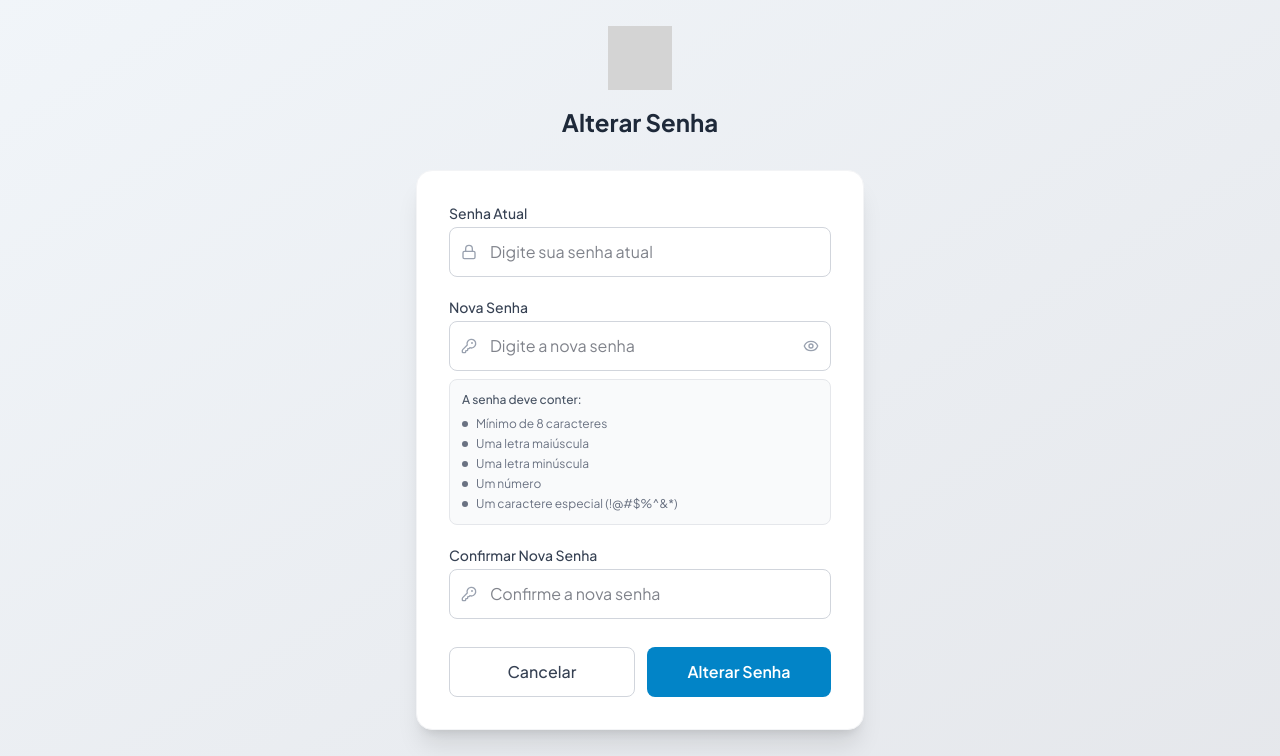
Scenario: ChangePasswordPage › deve exibir erro quando senha nao tem letra maiuscula
In the password field labelled "Senha Atual": point(640, 252) [449,227,831,277], type "atual"
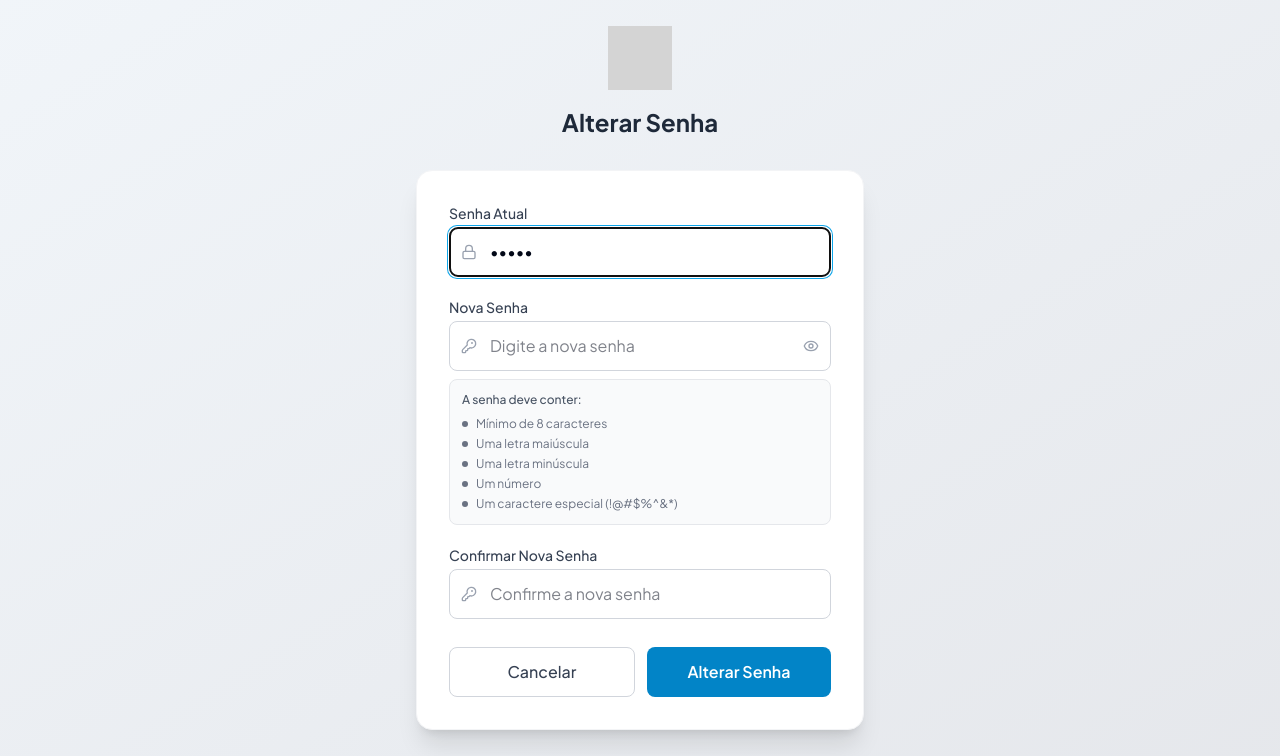
In the password field labelled "Nova Senha": point(640, 346) [449,321,831,371], type "abcdefg1@"
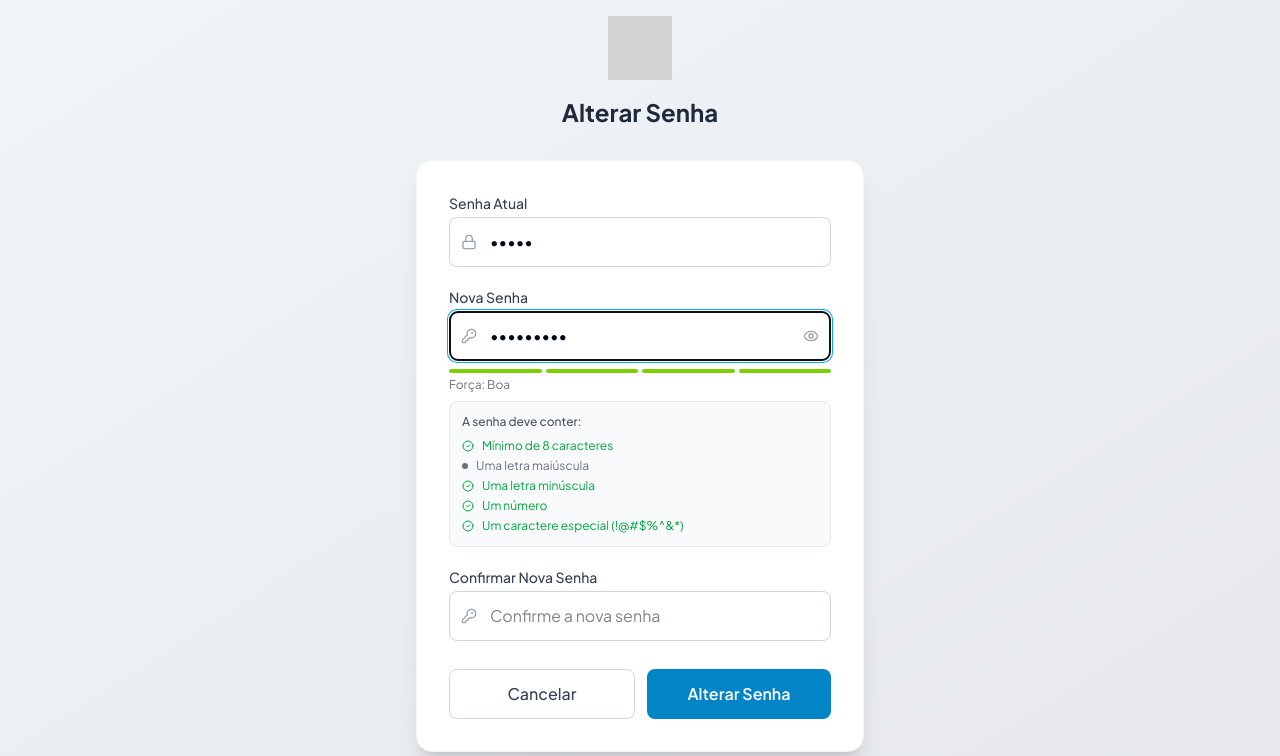
In the password field labelled "Confirmar Nova Senha": point(640, 616) [449,591,831,641], type "abcdefg1@"
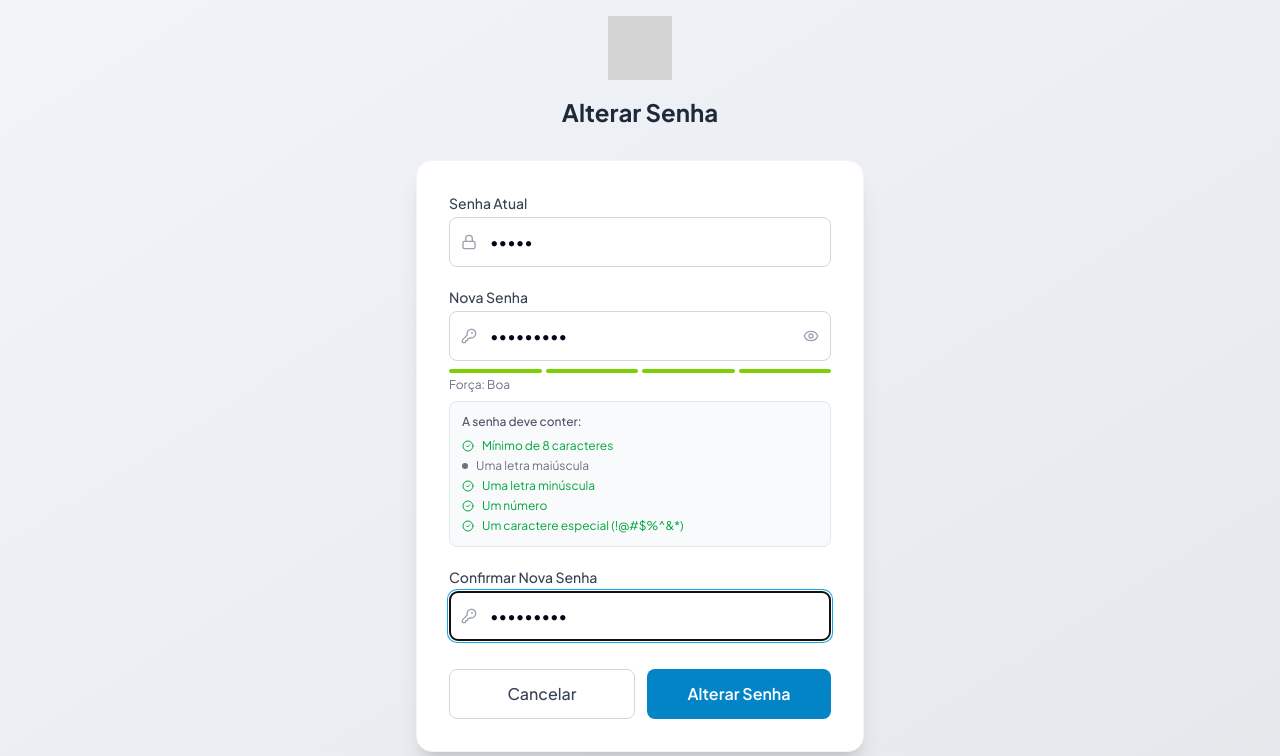
Click the button "Alterar Senha": point(739, 694) [647,669,831,719]
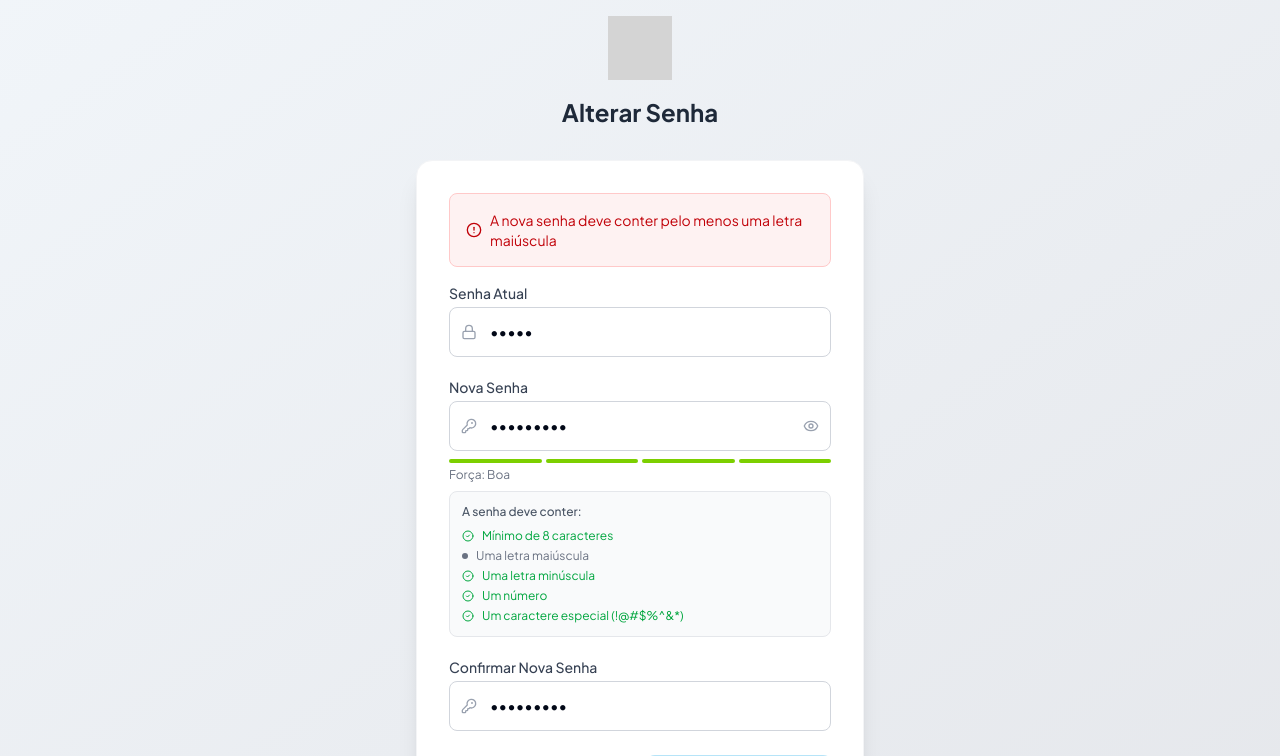
Expected: the text "A nova senha deve conter pelo menos uma letra maiúscula" is shown, [490,210,814,250]
